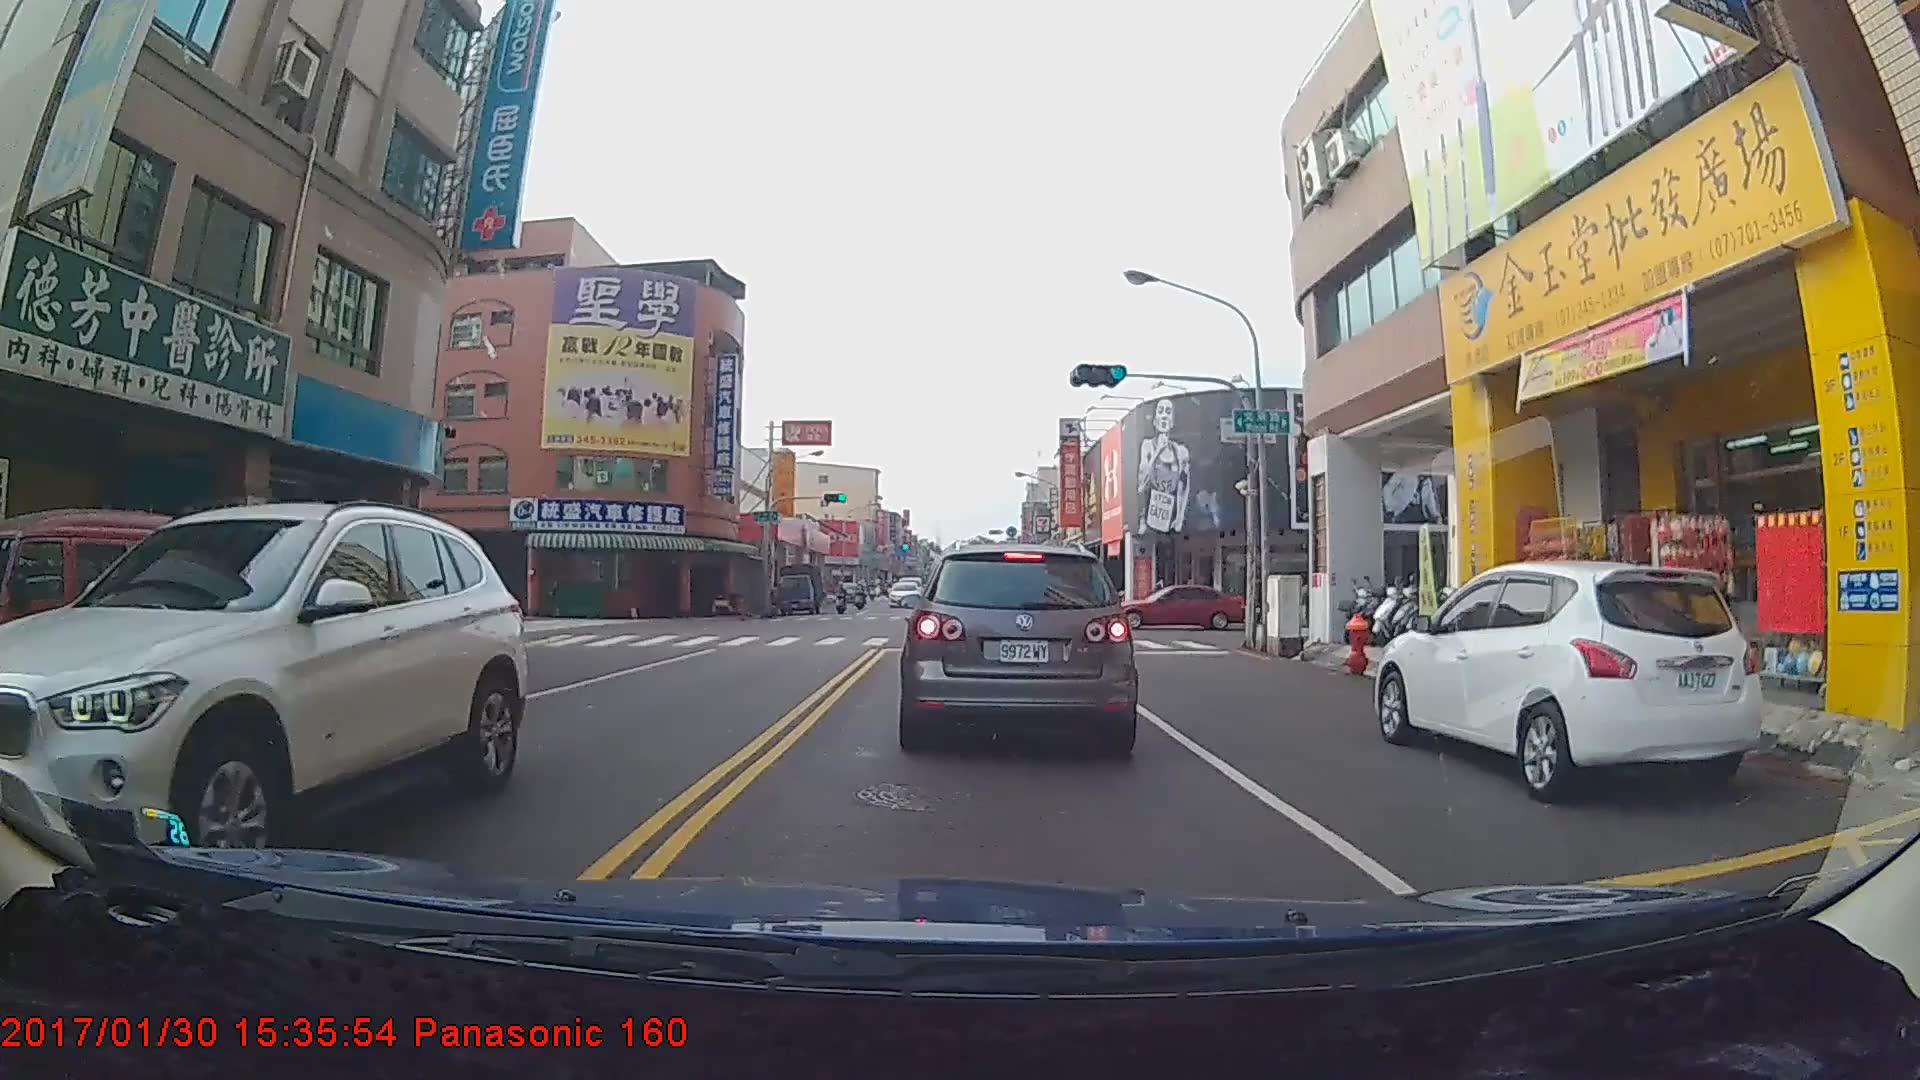rider: (829, 579, 851, 614), (847, 576, 867, 605)
vehicle: (0, 501, 542, 913), (1374, 559, 1764, 803), (902, 540, 1132, 751), (0, 509, 203, 735), (1105, 582, 1242, 634), (773, 562, 825, 614), (888, 579, 923, 609)
